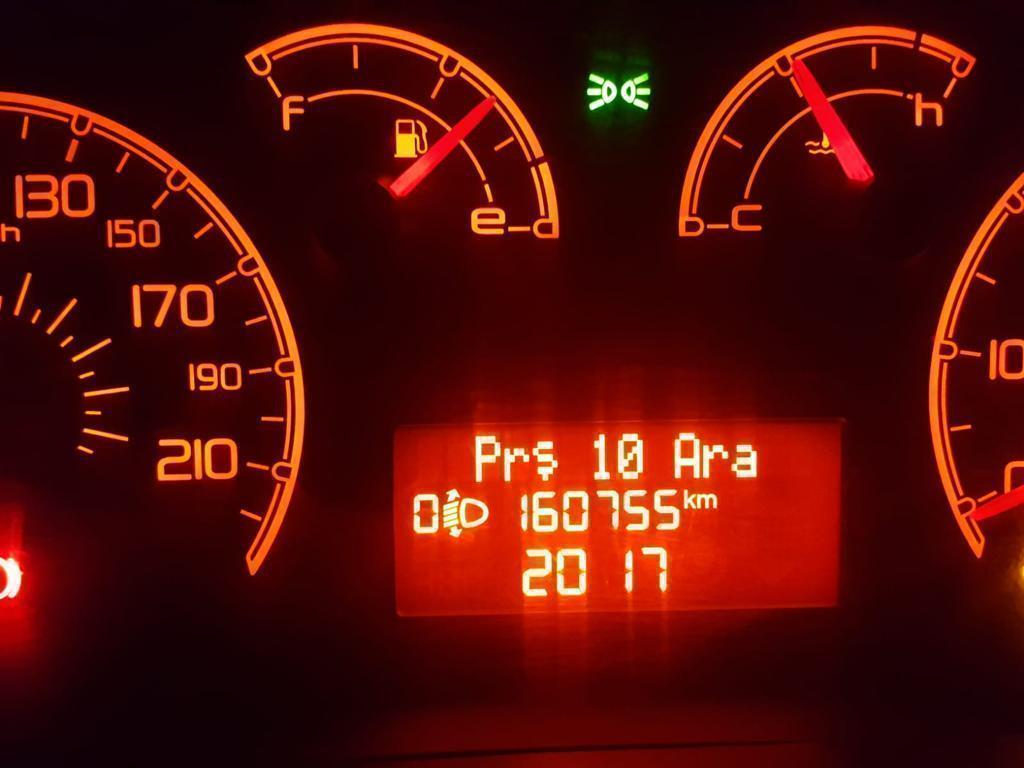0: (616, 430, 646, 482), (556, 548, 587, 596), (562, 489, 588, 532), (412, 493, 439, 534)
1: (591, 432, 611, 481), (623, 547, 636, 595), (519, 491, 529, 533)
2: (521, 547, 553, 597)
5: (653, 487, 681, 531), (623, 488, 650, 531)
6: (531, 489, 559, 533)
7: (639, 544, 669, 593), (594, 487, 620, 531)
X: (473, 433, 501, 483), (673, 431, 700, 479), (530, 440, 558, 482), (701, 440, 729, 478), (731, 442, 759, 479), (502, 446, 529, 483), (697, 492, 718, 510), (682, 487, 696, 509)
odometer: (389, 412, 849, 621)
